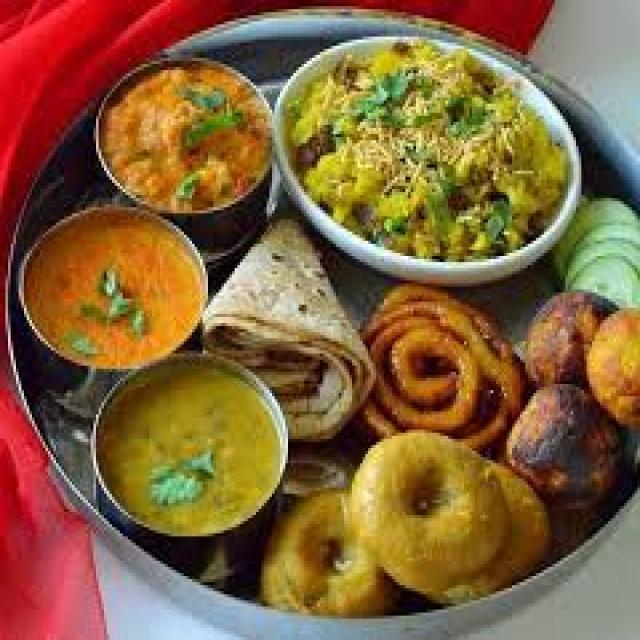dal: (79, 354, 292, 554), (13, 202, 215, 394)
veg-fry: (95, 56, 275, 237)
